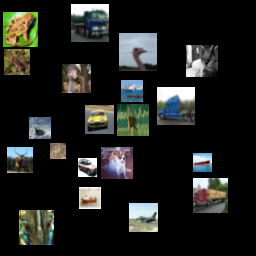airplane: (76, 210, 92, 226)
automobile: (172, 52, 204, 84), (27, 203, 46, 222)
bird: (0, 101, 26, 127), (90, 71, 106, 87)
cat: (70, 3, 108, 41), (204, 99, 230, 125), (117, 24, 133, 40)
deer: (106, 94, 132, 120), (138, 19, 160, 41), (27, 107, 49, 129), (156, 145, 172, 161), (73, 163, 89, 179)
dog: (171, 15, 193, 37)
ship: (7, 25, 36, 54), (38, 73, 64, 99), (141, 95, 163, 117)
